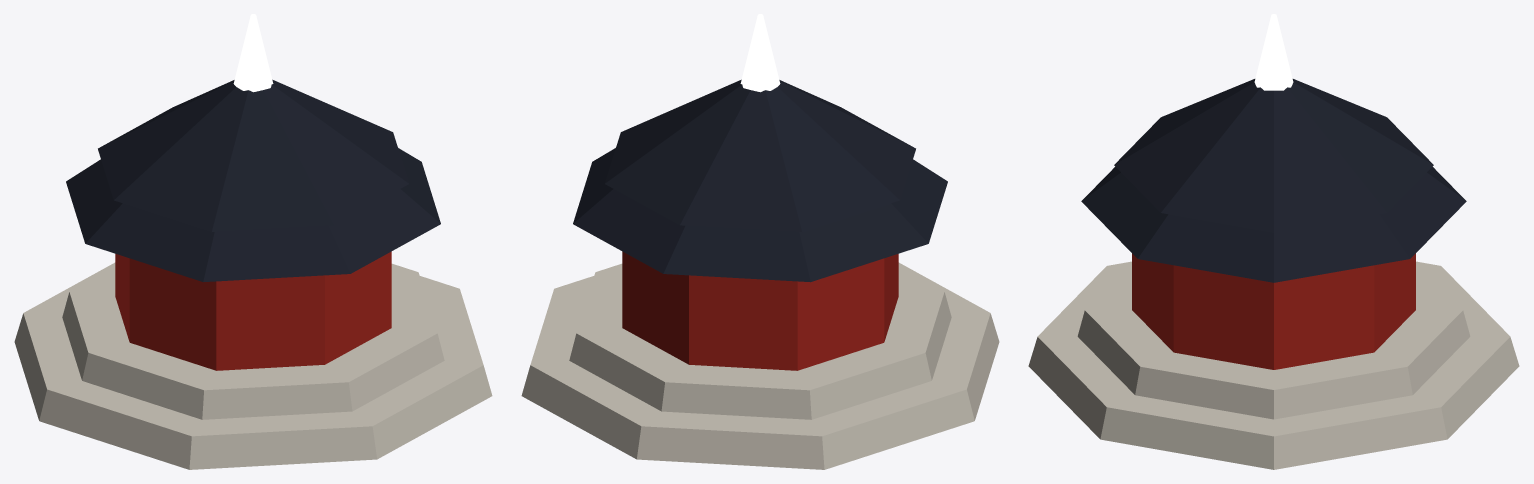
File: hall-of-dreams.glb
The picture shows the model from 3 angles, left to right: view 1: azimuth 30°, elevation 25°; view 2: azimuth 150°, elevation 25°; view 3: azimuth 270°, elevation 25°; orthographic projection.
Parts seen in each view (by area): view 1: hall-of-dreams_Opaque, hall-of-dreams_Emissive; view 2: hall-of-dreams_Opaque, hall-of-dreams_Emissive; view 3: hall-of-dreams_Opaque, hall-of-dreams_Emissive.
Boxes of the visible parts, <box> form: hall-of-dreams_Opaque: <box>14,79,492,469</box>; hall-of-dreams_Emissive: <box>233,14,273,92</box>; hall-of-dreams_Opaque: <box>521,79,999,469</box>; hall-of-dreams_Emissive: <box>740,14,780,92</box>; hall-of-dreams_Opaque: <box>1028,79,1519,469</box>; hall-of-dreams_Emissive: <box>1254,14,1293,90</box>.
Bounding box in the file's own units: 27 × 21.3 × 27.
